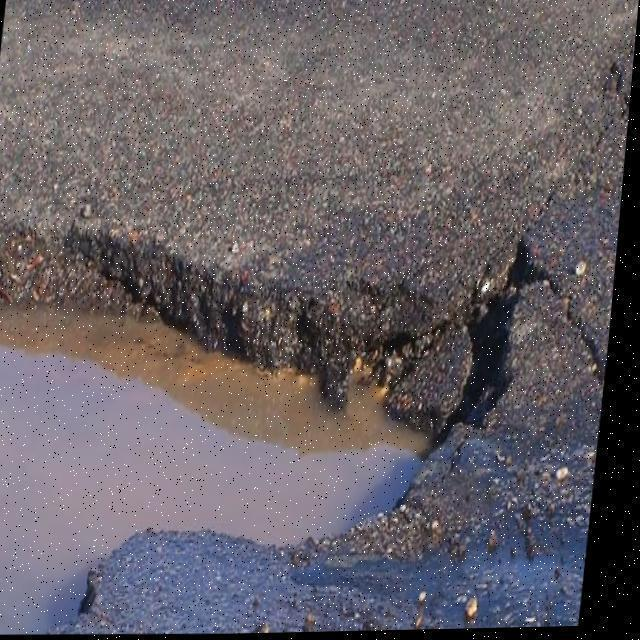Pothole: (0, 214, 558, 635)
